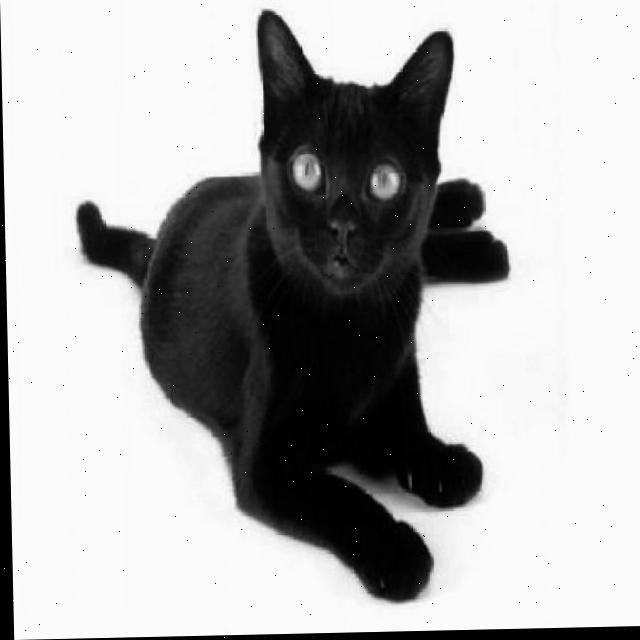Cat: (71, 5, 520, 613)
